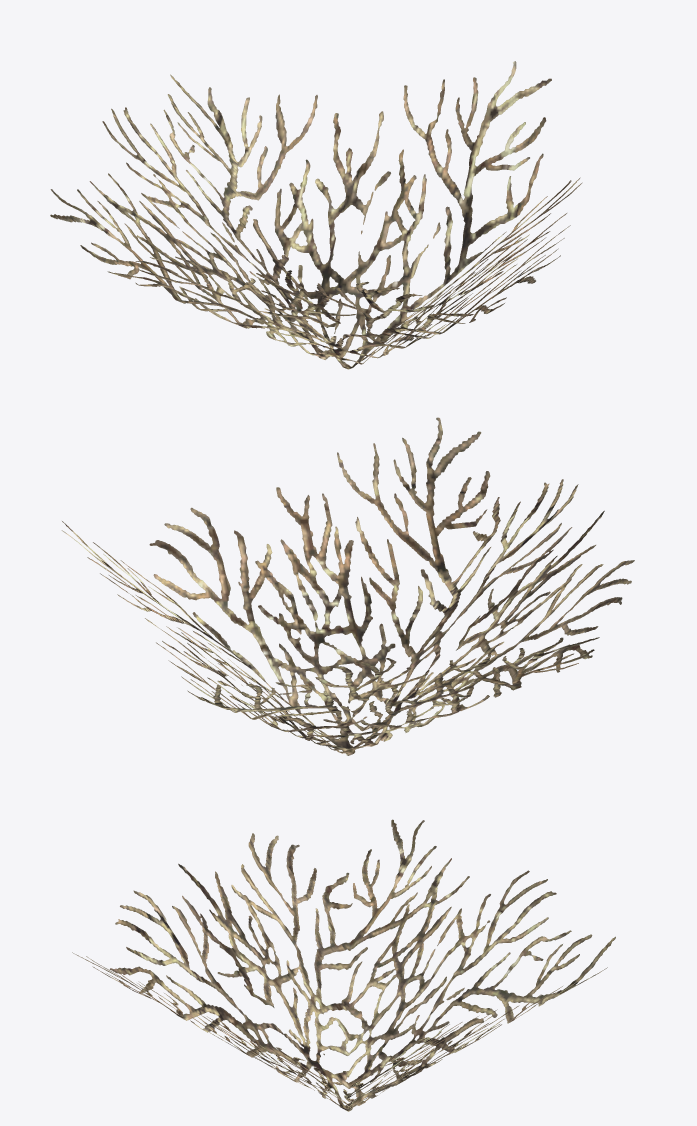
File: bush_dese_a_2.glb
The picture shows the model from 3 angles, top to bottom: view 1: azimuth 30°, elevation 25°; view 2: azimuth 150°, elevation 25°; view 3: azimuth 270°, elevation 25°; orthographic projection. The views are drawn at different scales.
Parts seen in each view (by area): view 1: bush_dese_a_2; view 2: bush_dese_a_2; view 3: bush_dese_a_2.
Part boxes in pixels (x1,y1,x2,y2): bush_dese_a_2: (50, 61, 582, 369); bush_dese_a_2: (61, 417, 634, 755); bush_dese_a_2: (72, 819, 615, 1111).
Bounding box in the file's own units: 7.57 × 2.33 × 7.57.
Materials: 1 (1 with a texture image).
